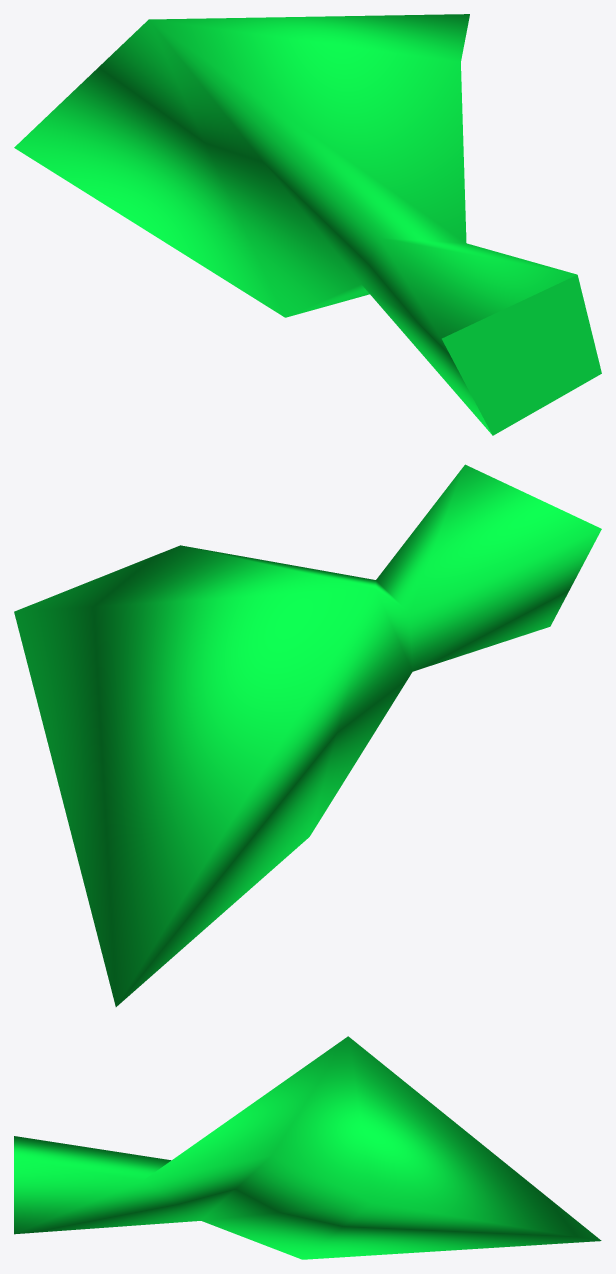
Rendered from Plant02_a_col.FBX.
3 renders of one model, top to bottom at view 1: azimuth 30°, elevation 25°; view 2: azimuth 150°, elevation 25°; view 3: azimuth 270°, elevation 25°, orthographic. The views are drawn at different scales.
Visible parts, largest first — view 1: Plant02_a_col; view 2: Plant02_a_col; view 3: Plant02_a_col.
Boxes of the visible parts, <box> form: Plant02_a_col: <box>14,14,601,435</box>; Plant02_a_col: <box>14,464,601,1006</box>; Plant02_a_col: <box>14,1036,601,1259</box>.
Bounding box in the file's own units: 194 × 162 × 450.
